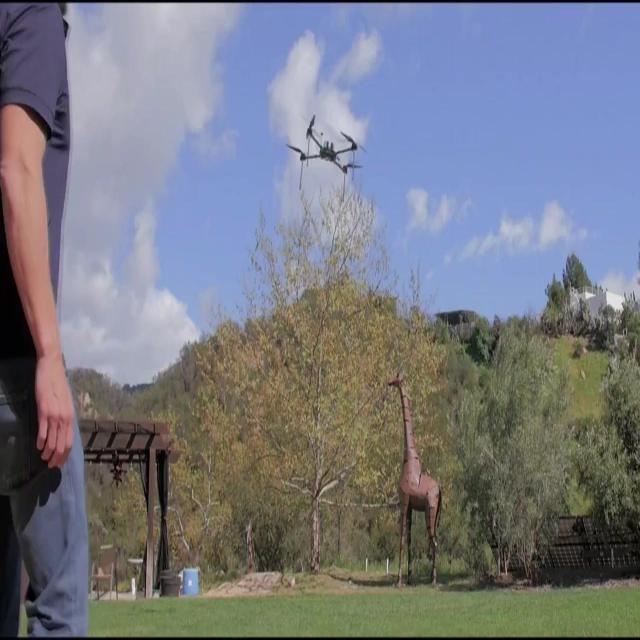UAV: (285, 115, 368, 202)
